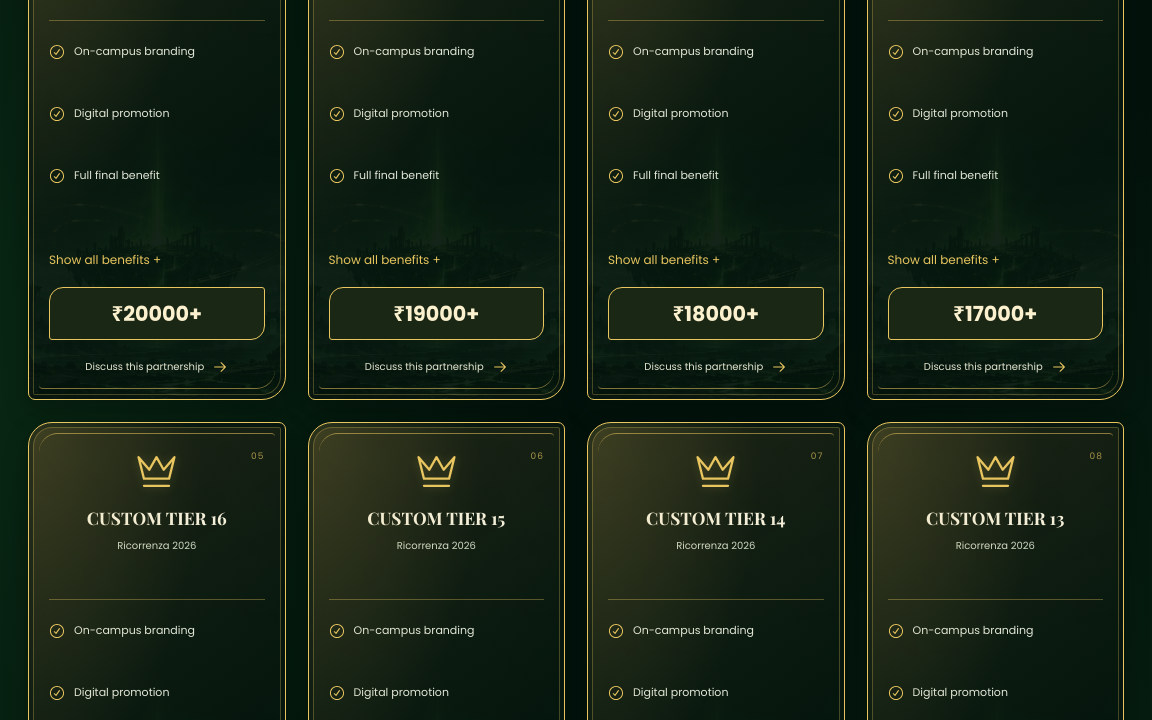
renders all 20 enabled custom tiers in admin order with every benefit and enquiry context
The image size is (1152, 720).
(page scrolled)
Click the button "Discuss this partnership" below "₹20000+": (157, 361) [49, 340, 264, 382]
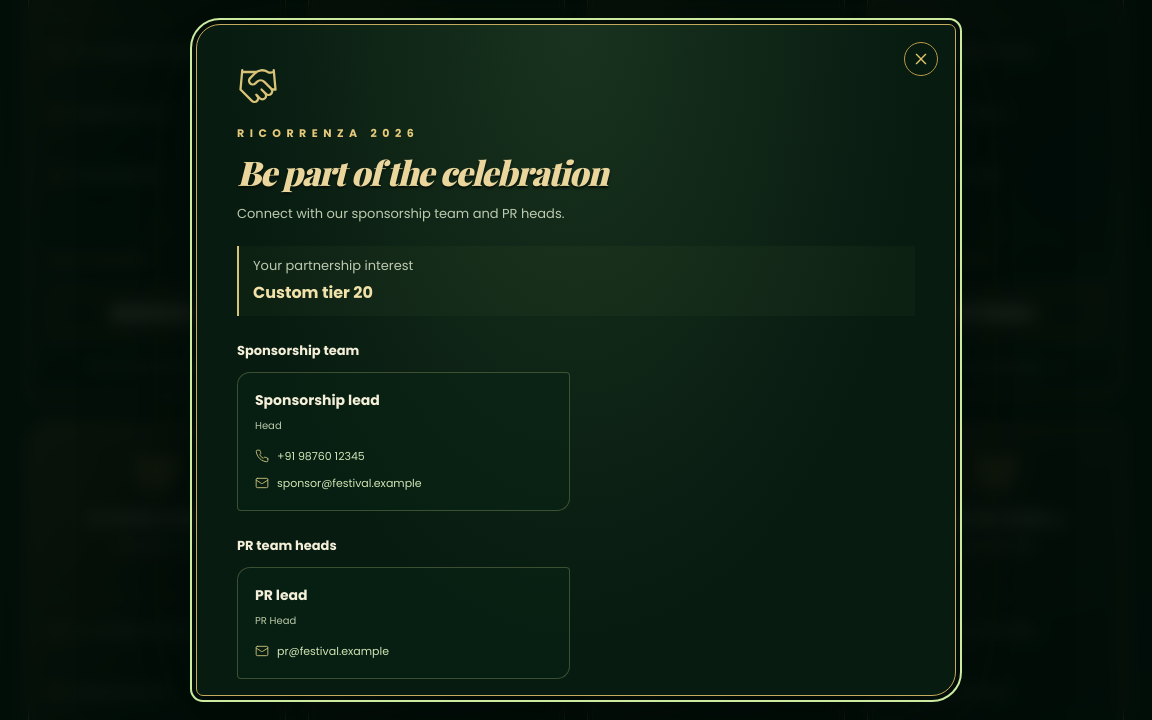
Check: the dialog shows "Custom tier 20", box [253, 281, 373, 304]
Check: the dialog shows "PR lead", box [255, 585, 308, 605]
